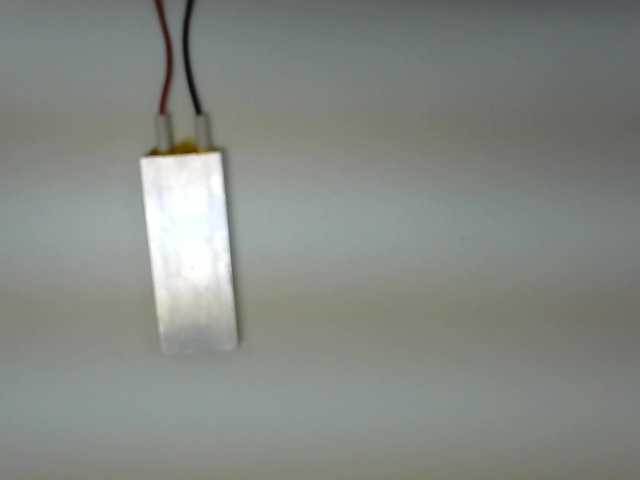heater: (139, 117, 252, 368)
